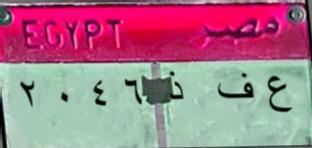0: (58, 90, 72, 107)
2: (19, 78, 38, 111)
4: (91, 79, 108, 108)
6: (123, 77, 142, 109)
ain: (265, 74, 293, 117)
faa: (215, 72, 255, 104)
zaal: (168, 69, 186, 103)
